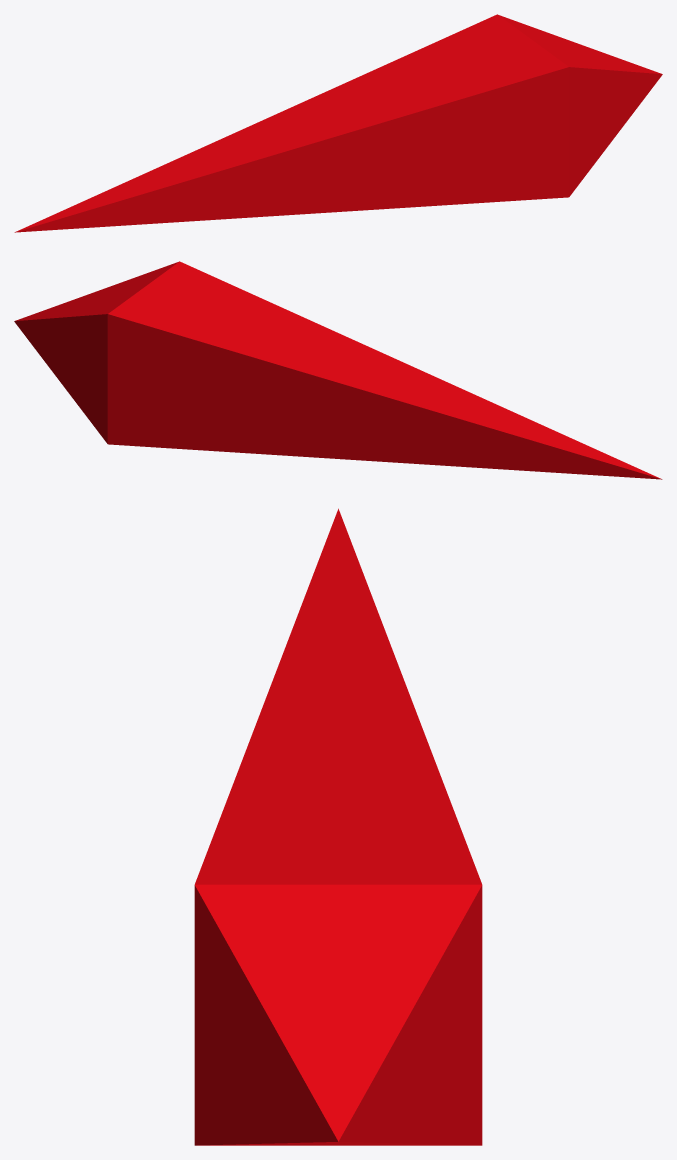
The model's file is MainProjectile.fbx.
The picture shows the model from 3 angles, top to bottom: view 1: azimuth 30°, elevation 25°; view 2: azimuth 150°, elevation 25°; view 3: azimuth 270°, elevation 25°; orthographic projection. The views are drawn at different scales.
Visible parts, largest first — view 1: Cube; view 2: Cube; view 3: Cube.
Boxes of the visible parts, left/top/right/bottom form: Cube: left=14, top=14, right=662, bottom=232; Cube: left=14, top=261, right=662, bottom=479; Cube: left=194, top=508, right=482, bottom=1145.
Bounding box in the file's own units: 500 × 96 × 96.
